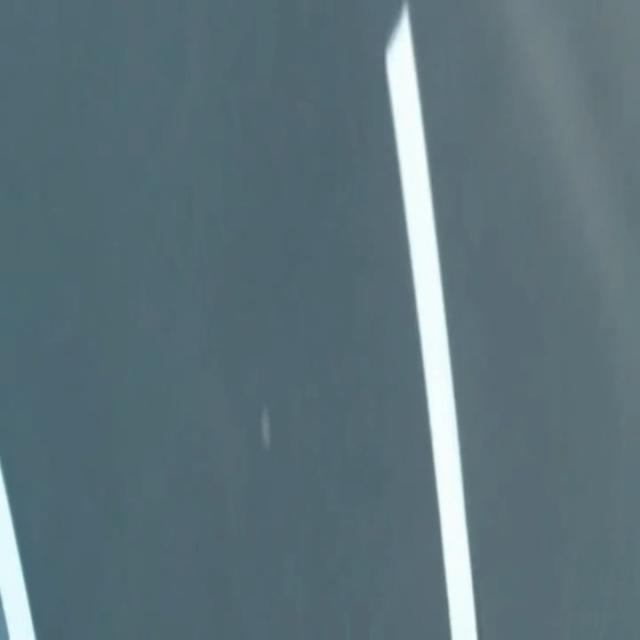center: (386, 0, 476, 639)
